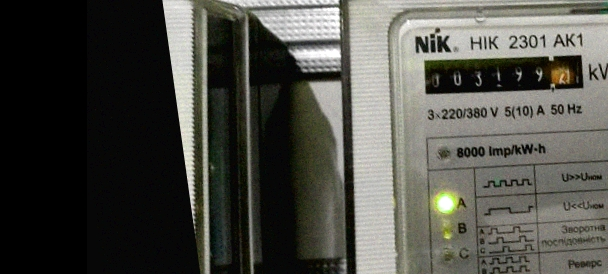0: (427, 68, 443, 89), (450, 66, 464, 87)
1: (492, 62, 504, 82)
3: (472, 68, 483, 88)
6: (556, 70, 568, 87)
9: (512, 63, 524, 82), (533, 64, 545, 83)
screen: (414, 33, 594, 117)
